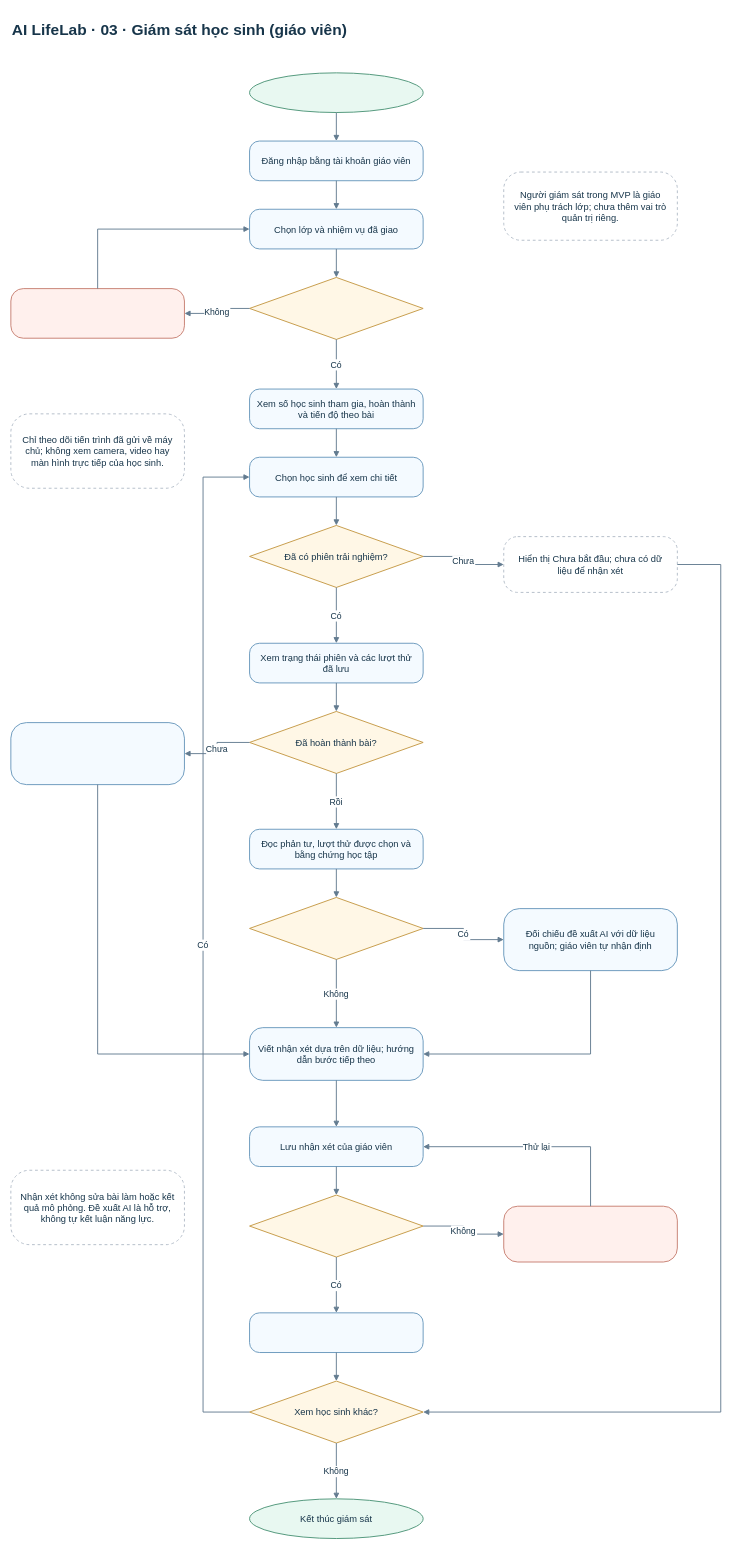
This 737x1549 diagram has some shape labels left out. The shapes that lost their labels are listed below. From the top down, each one's centre as x and y in pixels, then its label:
At [336,92]: "Bắt đầu giám sát".
At [97,313]: "Thông báo không có quyền; quay lại chọn lớp".
At [336,308]: "Có quyền xem lớp?".
At [97,753]: "Xem lựa chọn và kết quả hiện có; nhận diện vướng mắc từ dữ liệu".
At [336,928]: "Có đề xuất nhận xét AI?".
At [336,1225]: "Lưu thành công?".
At [590,1233]: "Báo lỗi, giữ bản nháp; thử lại cùng mã yêu cầu".
At [336,1332]: "Hiển thị nhận xét đã lưu trong hồ sơ phiên".
